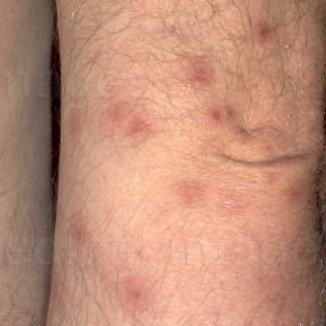Fleas: (175, 56, 215, 92), (120, 277, 158, 314), (106, 100, 135, 133), (63, 109, 91, 140), (63, 217, 91, 247), (178, 176, 206, 204), (210, 106, 237, 129), (234, 126, 258, 148), (253, 22, 271, 47)
